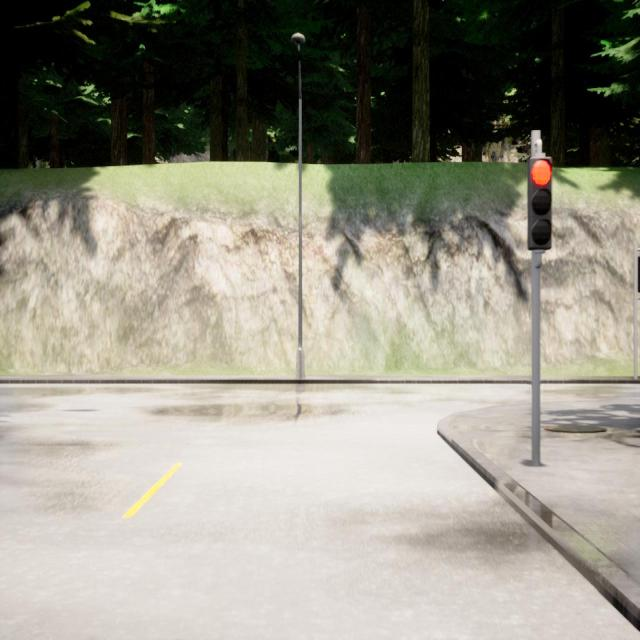traffic_light: (528, 158, 553, 250)
